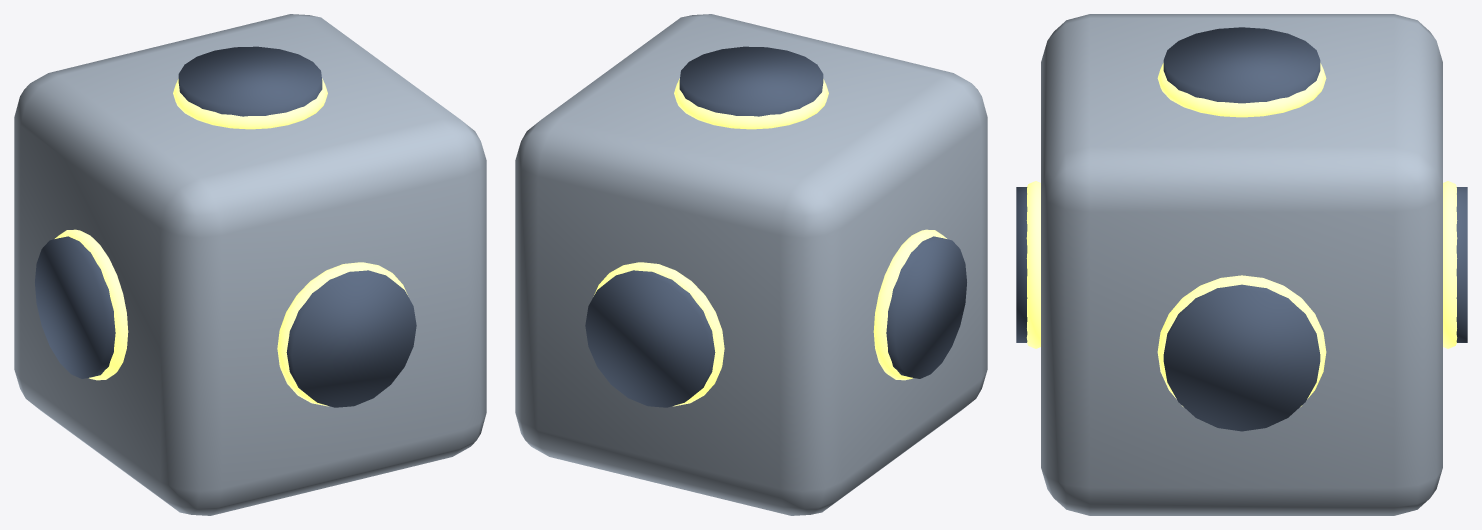
The model's file is force_node.glb.
3 renders of one model, left to right at view 1: azimuth 30°, elevation 25°; view 2: azimuth 150°, elevation 25°; view 3: azimuth 270°, elevation 25°, orthographic. The views are drawn at different scales.
Visible parts, largest first — view 1: ForceBlock, AnchorPort_3, AnchorPort_1, AnchorPort_4, AnchorRing_1, AnchorRing_4, AnchorRing_3; view 2: ForceBlock, AnchorPort_2, AnchorPort_1, AnchorPort_4, AnchorRing_1, AnchorRing_4, AnchorRing_2; view 3: ForceBlock, AnchorPort_0, AnchorPort_4, AnchorRing_4, AnchorRing_0, AnchorRing_2, AnchorRing_3, AnchorPort_2, AnchorPort_3.
Boxes of the visible parts, bbox=[...] form: ForceBlock: bbox=[14, 14, 486, 515]; AnchorPort_3: bbox=[286, 270, 416, 407]; AnchorPort_1: bbox=[35, 236, 115, 378]; AnchorPort_4: bbox=[178, 46, 322, 116]; AnchorRing_1: bbox=[55, 229, 128, 380]; AnchorRing_4: bbox=[173, 78, 327, 129]; AnchorRing_3: bbox=[277, 262, 408, 406]; ForceBlock: bbox=[515, 14, 987, 515]; AnchorPort_2: bbox=[585, 270, 715, 407]; AnchorPort_1: bbox=[886, 236, 966, 378]; AnchorPort_4: bbox=[679, 46, 823, 116]; AnchorRing_1: bbox=[873, 229, 946, 380]; AnchorRing_4: bbox=[674, 78, 828, 129]; AnchorRing_2: bbox=[593, 262, 724, 406]; ForceBlock: bbox=[1041, 14, 1442, 515]; AnchorPort_0: bbox=[1163, 284, 1320, 431]; AnchorPort_4: bbox=[1163, 27, 1320, 103]; AnchorRing_4: bbox=[1157, 63, 1326, 117]; AnchorRing_0: bbox=[1157, 275, 1326, 406]; AnchorRing_2: bbox=[1443, 181, 1457, 348]; AnchorRing_3: bbox=[1026, 181, 1040, 348]; AnchorPort_2: bbox=[1456, 187, 1467, 342]; AnchorPort_3: bbox=[1016, 187, 1027, 342].
Bounding box in the file's own units: 0.092 × 0.092 × 0.092.
